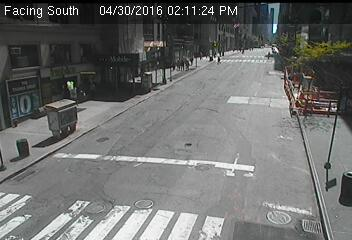neg: (174, 130, 190, 151), (319, 154, 333, 173), (11, 137, 25, 154), (296, 85, 307, 100), (162, 74, 173, 89), (264, 46, 274, 58), (240, 88, 249, 100), (244, 52, 253, 63), (141, 71, 149, 83), (199, 74, 207, 85), (228, 57, 234, 66)
pos: (182, 58, 192, 71), (174, 58, 183, 71), (179, 58, 188, 70), (198, 51, 205, 61)
